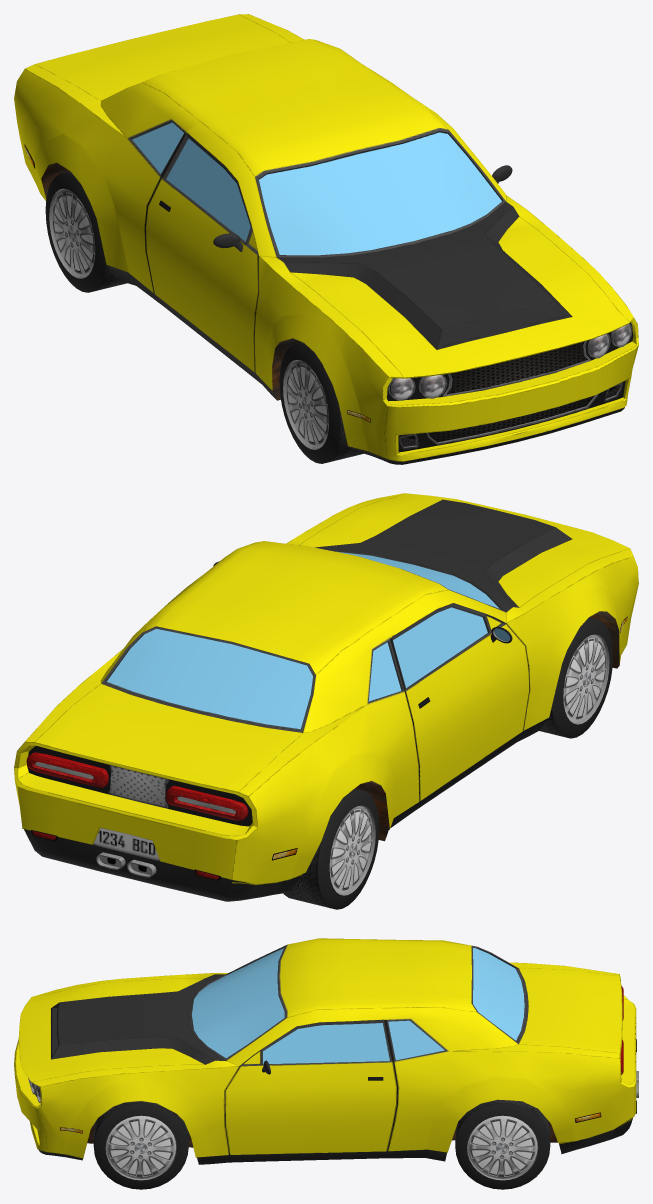
The picture shows the model from 3 angles, top to bottom: view 1: azimuth 30°, elevation 25°; view 2: azimuth 150°, elevation 25°; view 3: azimuth 270°, elevation 25°; orthographic projection. The views are drawn at different scales.
Visible parts, largest first — view 1: Body, FL, BL; view 2: Body, BL, FL; view 3: Body, BR, FR.
Part boxes in pixels (bbox=[...]): Body: bbox=[14, 14, 638, 464]; FL: bbox=[279, 342, 363, 463]; BL: bbox=[45, 171, 127, 292]; Body: bbox=[14, 493, 638, 901]; BL: bbox=[283, 788, 379, 909]; FL: bbox=[539, 617, 613, 738]; Body: bbox=[14, 938, 638, 1164]; BR: bbox=[455, 1099, 550, 1189]; FR: bbox=[93, 1101, 188, 1189].
Size of the model in its own units: 266 by 187 by 623.
2 materials, 2 textured.
